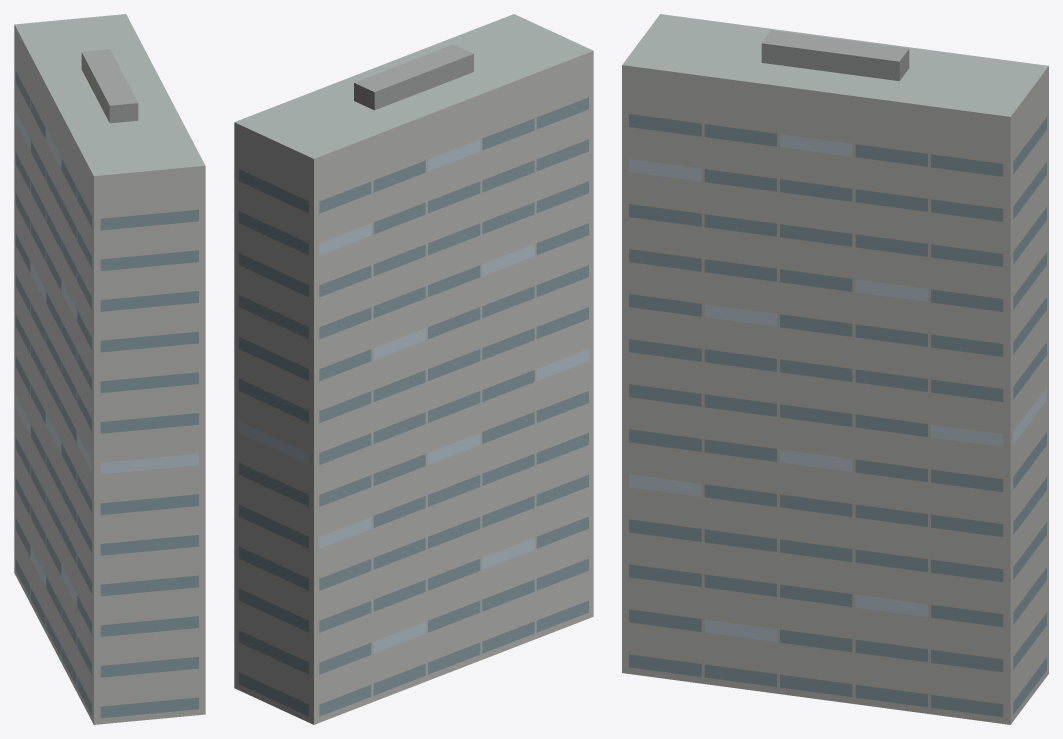
File: fallback-jamsil-els-113.glb
The picture shows the model from 3 angles, left to right: view 1: azimuth 30°, elevation 25°; view 2: azimuth 150°, elevation 25°; view 3: azimuth 270°, elevation 25°; orthographic projection. The views are drawn at different scales.
Visible parts, largest first — view 1: fallback-jamsil-els-113; view 2: fallback-jamsil-els-113; view 3: fallback-jamsil-els-113.
Boxes of the visible parts, <box> form: fallback-jamsil-els-113: <box>14,14,205,724</box>; fallback-jamsil-els-113: <box>234,14,593,724</box>; fallback-jamsil-els-113: <box>622,14,1048,724</box>.
Bounding box in the file's own units: 27.1 × 77 × 47.45.
